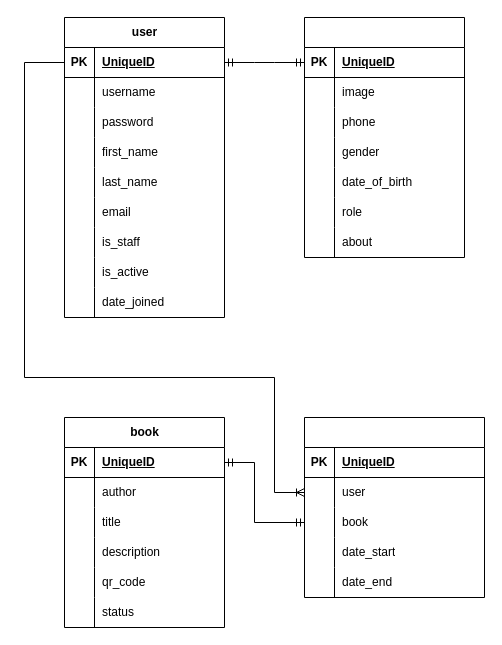
The diagram is 502 pixels wide and 645 high, and some of its shapes have lost their labels. Here are the shapes that lost their labels. From the top down, the box of each, then its label:
(304, 16, 464, 258): user_p rofile
(304, 416, 484, 598): history
